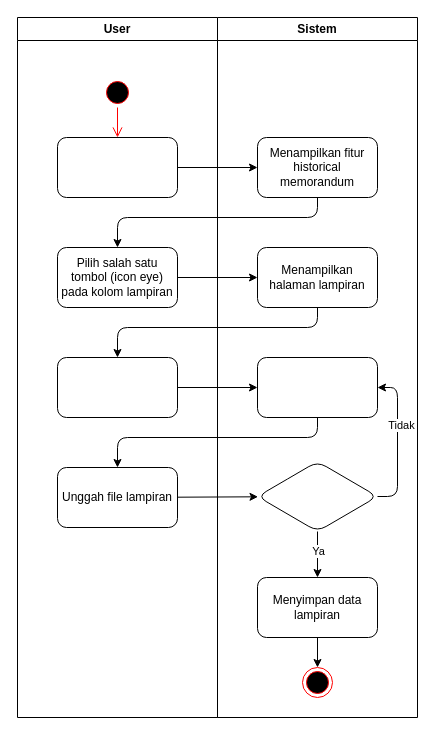
Image size: 435x735. Some labels were removed from this diagram. The centre of each missing label's shape, as x and y in pixels:
Menampilkan halaman tambah lampiran: the point at 317,387
Pilih fitur historical memorandum: the point at 117,167
Pilih tombol tambah lampiran: the point at 117,387
Validasi data: the point at 317,496
